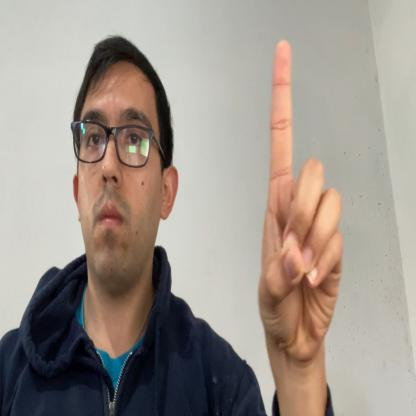D: (259, 40, 342, 366)
